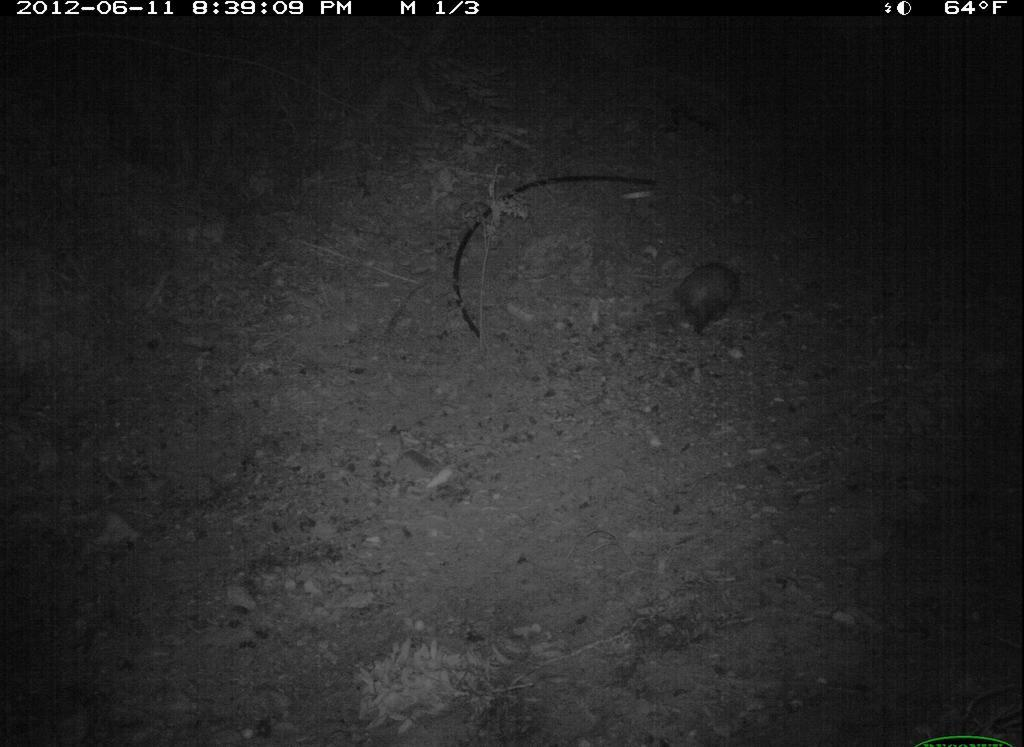opossum: (625, 250, 756, 342)
